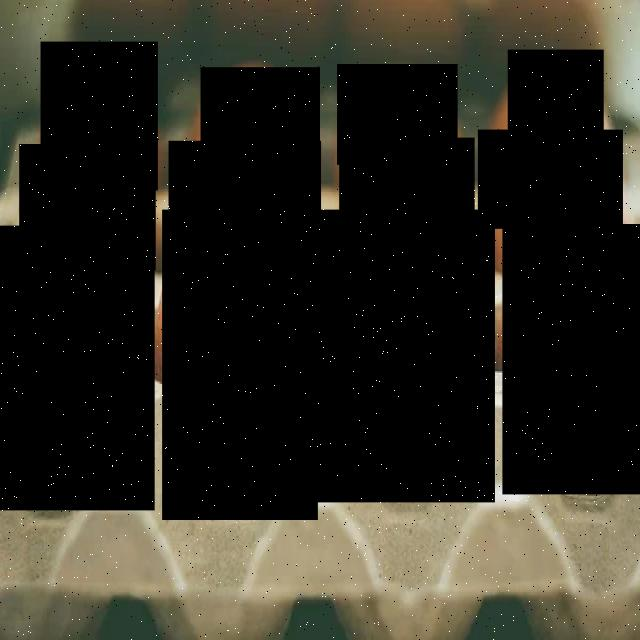Egg: (313, 211, 496, 503), (162, 210, 318, 520), (0, 225, 155, 510), (502, 224, 640, 495), (41, 41, 158, 190), (20, 145, 156, 272), (340, 138, 474, 247), (478, 130, 624, 229), (169, 140, 321, 228), (338, 64, 458, 165), (200, 67, 320, 167), (508, 51, 604, 133)
